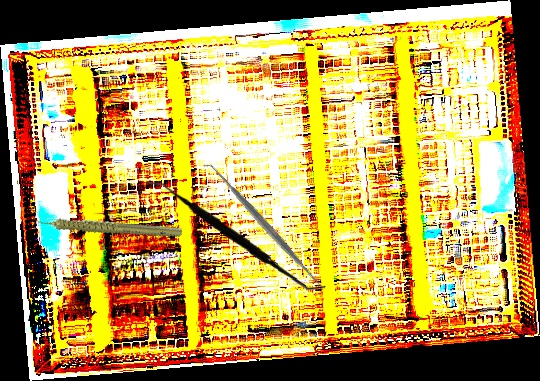Handpiece: (30, 182, 184, 268)
Spatula Surgical: (142, 179, 329, 291), (200, 155, 330, 296)
